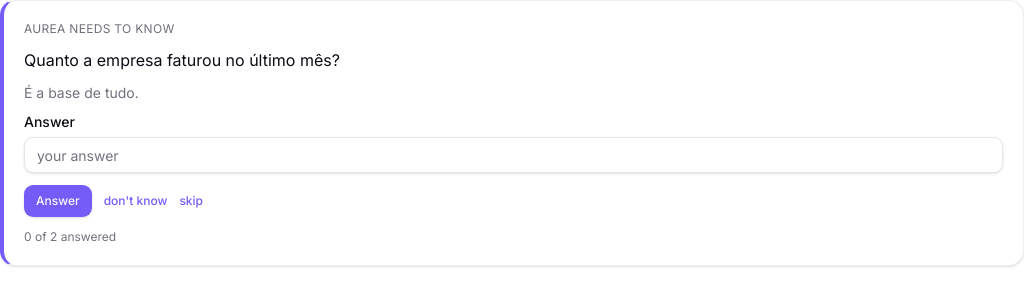
Test case: AiFillPanel › reports progress as the number of questions answered so far, not a queue position
Expected: the text "0 of 2 answered" is shown, [24,229,116,244]
Step 1. Click the button "don't know" → [136, 201], box [104,185,167,217]
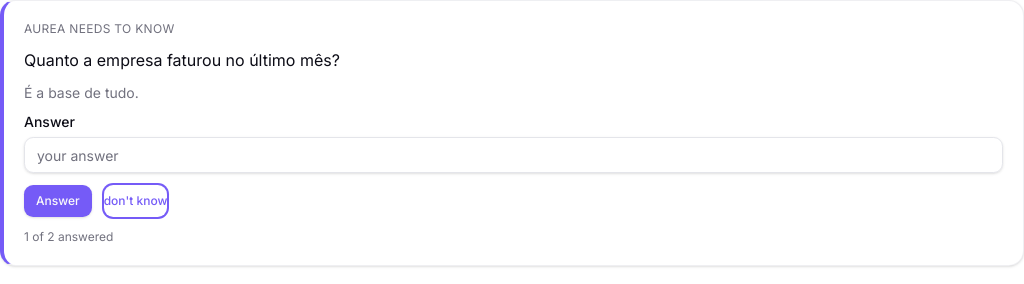
Expected: the text "1 of 2 answered" is shown, [24,229,113,244]
